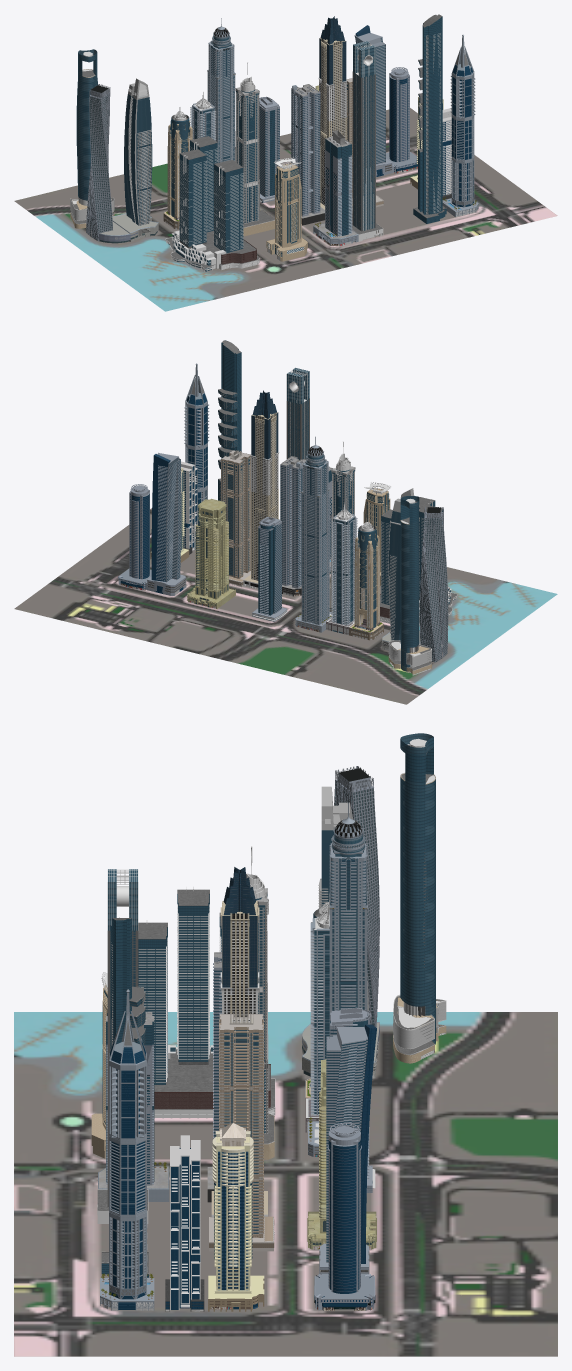
Rendered from dxb-marina.glb.
3 renders of one model, top to bottom at view 1: azimuth 30°, elevation 25°; view 2: azimuth 150°, elevation 25°; view 3: azimuth 270°, elevation 25°, orthographic. The views are drawn at different scales.
Visible parts, largest first — view 1: GeometryNode_887, GeometryNode_1076, GeometryNode_1180, GeometryNode_632, GeometryNode_713, GeometryNode_957, GeometryNode_1251, GeometryNode_23, GeometryNode_286, GeometryNode_147, GeometryNode_227, GeometryNode_831 (+30 smaller); view 2: GeometryNode_887, GeometryNode_1076, GeometryNode_286, GeometryNode_498, GeometryNode_759, GeometryNode_585, GeometryNode_1251, GeometryNode_147, GeometryNode_1128, GeometryNode_675, GeometryNode_632, GeometryNode_393 (+29 smaller); view 3: GeometryNode_887, GeometryNode_1076, GeometryNode_23, GeometryNode_759, GeometryNode_1180, GeometryNode_286, GeometryNode_124, GeometryNode_37, GeometryNode_808, GeometryNode_957, GeometryNode_585, GeometryNode_736 (+32 smaller).
Part boxes in pixels (x1,y1,x2,y2): GeometryNode_887: (14, 108, 557, 311); GeometryNode_1076: (76, 40, 303, 271); GeometryNode_1180: (166, 71, 445, 269); GeometryNode_632: (413, 16, 446, 223); GeometryNode_713: (353, 41, 375, 230); GeometryNode_957: (179, 142, 243, 250); GeometryNode_1251: (291, 85, 320, 216); GeometryNode_23: (442, 34, 478, 217); GeometryNode_286: (207, 42, 235, 162); GeometryNode_147: (86, 85, 110, 241); GeometryNode_227: (266, 163, 307, 261); GeometryNode_831: (235, 87, 259, 223); GeometryNode_887: (14, 508, 557, 704); GeometryNode_1076: (302, 458, 455, 671); GeometryNode_286: (301, 460, 329, 625); GeometryNode_498: (187, 498, 235, 608); GeometryNode_759: (221, 450, 250, 587); GeometryNode_585: (156, 452, 181, 582); GeometryNode_1251: (280, 457, 303, 588); GeometryNode_147: (420, 507, 448, 662); GeometryNode_1128: (420, 518, 447, 662); GeometryNode_675: (244, 412, 278, 583); GeometryNode_632: (218, 340, 241, 500); GeometryNode_393: (331, 514, 357, 625); GeometryNode_887: (14, 1012, 557, 1356); GeometryNode_1076: (102, 733, 435, 1124); GeometryNode_23: (100, 989, 154, 1310); GeometryNode_759: (209, 1013, 274, 1251); GeometryNode_1180: (97, 889, 274, 1273); GeometryNode_286: (329, 843, 367, 1034); GeometryNode_124: (208, 1131, 264, 1302); GeometryNode_37: (110, 1040, 145, 1309); GeometryNode_808: (314, 1139, 375, 1307); GeometryNode_957: (138, 886, 221, 1082); GeometryNode_585: (326, 1027, 367, 1262); GeometryNode_736: (165, 1148, 203, 1309).
Size of the model in its own units: 900 by 440 by 601.
97 materials, 96 textured.
